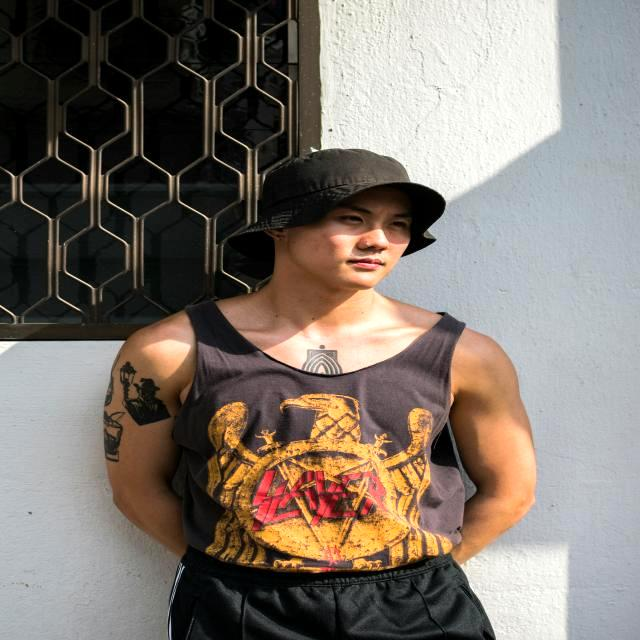no_hard_hat: (228, 149, 445, 261)
person: (104, 149, 535, 640)
